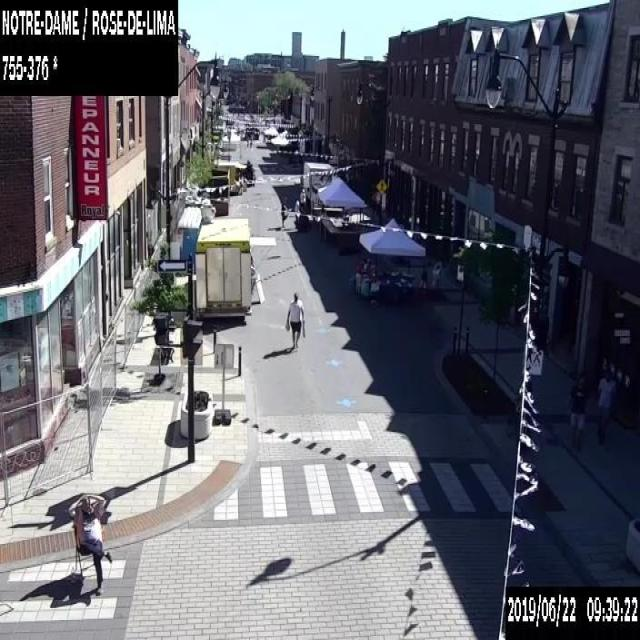pedestrian: (67, 492, 112, 595), (564, 373, 588, 446), (594, 367, 616, 440), (284, 291, 305, 349)
